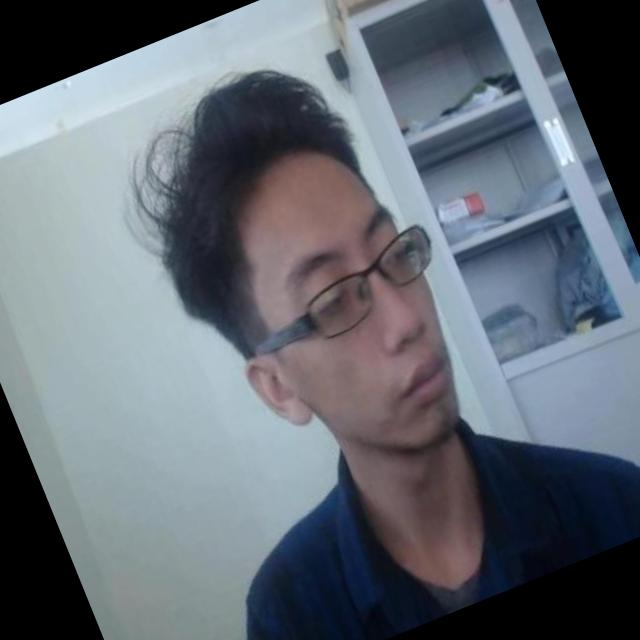bareface: (112, 2, 520, 535)
